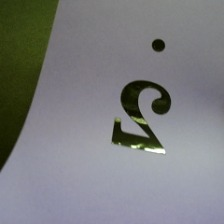violet2: (104, 36, 184, 159)
